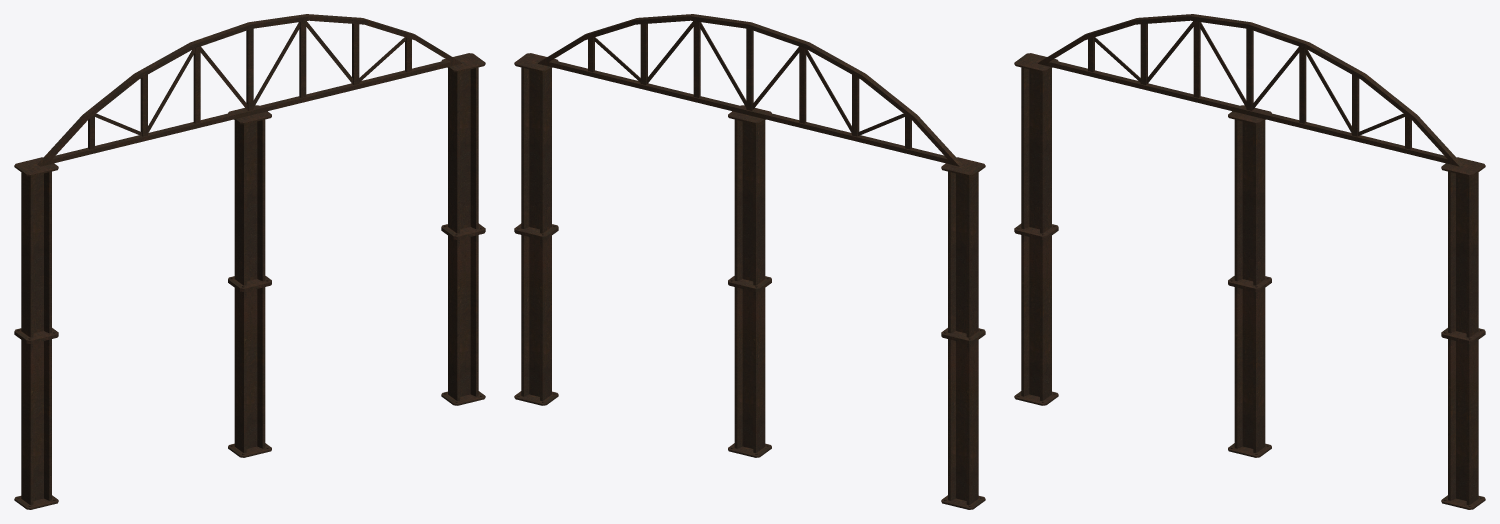
Rendered from warehouse_hl_1_frame_piece.dae.
The picture shows the model from 3 angles, left to right: view 1: azimuth 30°, elevation 25°; view 2: azimuth 150°, elevation 25°; view 3: azimuth 330°, elevation 25°; orthographic projection.
Parts seen in each view (by area): view 1: warehouse_hl_1_frame_piece; view 2: warehouse_hl_1_frame_piece; view 3: warehouse_hl_1_frame_piece.
Part boxes in pixels (x1,y1,x2,y2): warehouse_hl_1_frame_piece: (14, 14, 485, 509); warehouse_hl_1_frame_piece: (514, 14, 985, 509); warehouse_hl_1_frame_piece: (1014, 14, 1485, 509).
Size of the model in its own units: 8.6 by 0.5 by 7.62.
1 material, 1 textured.
